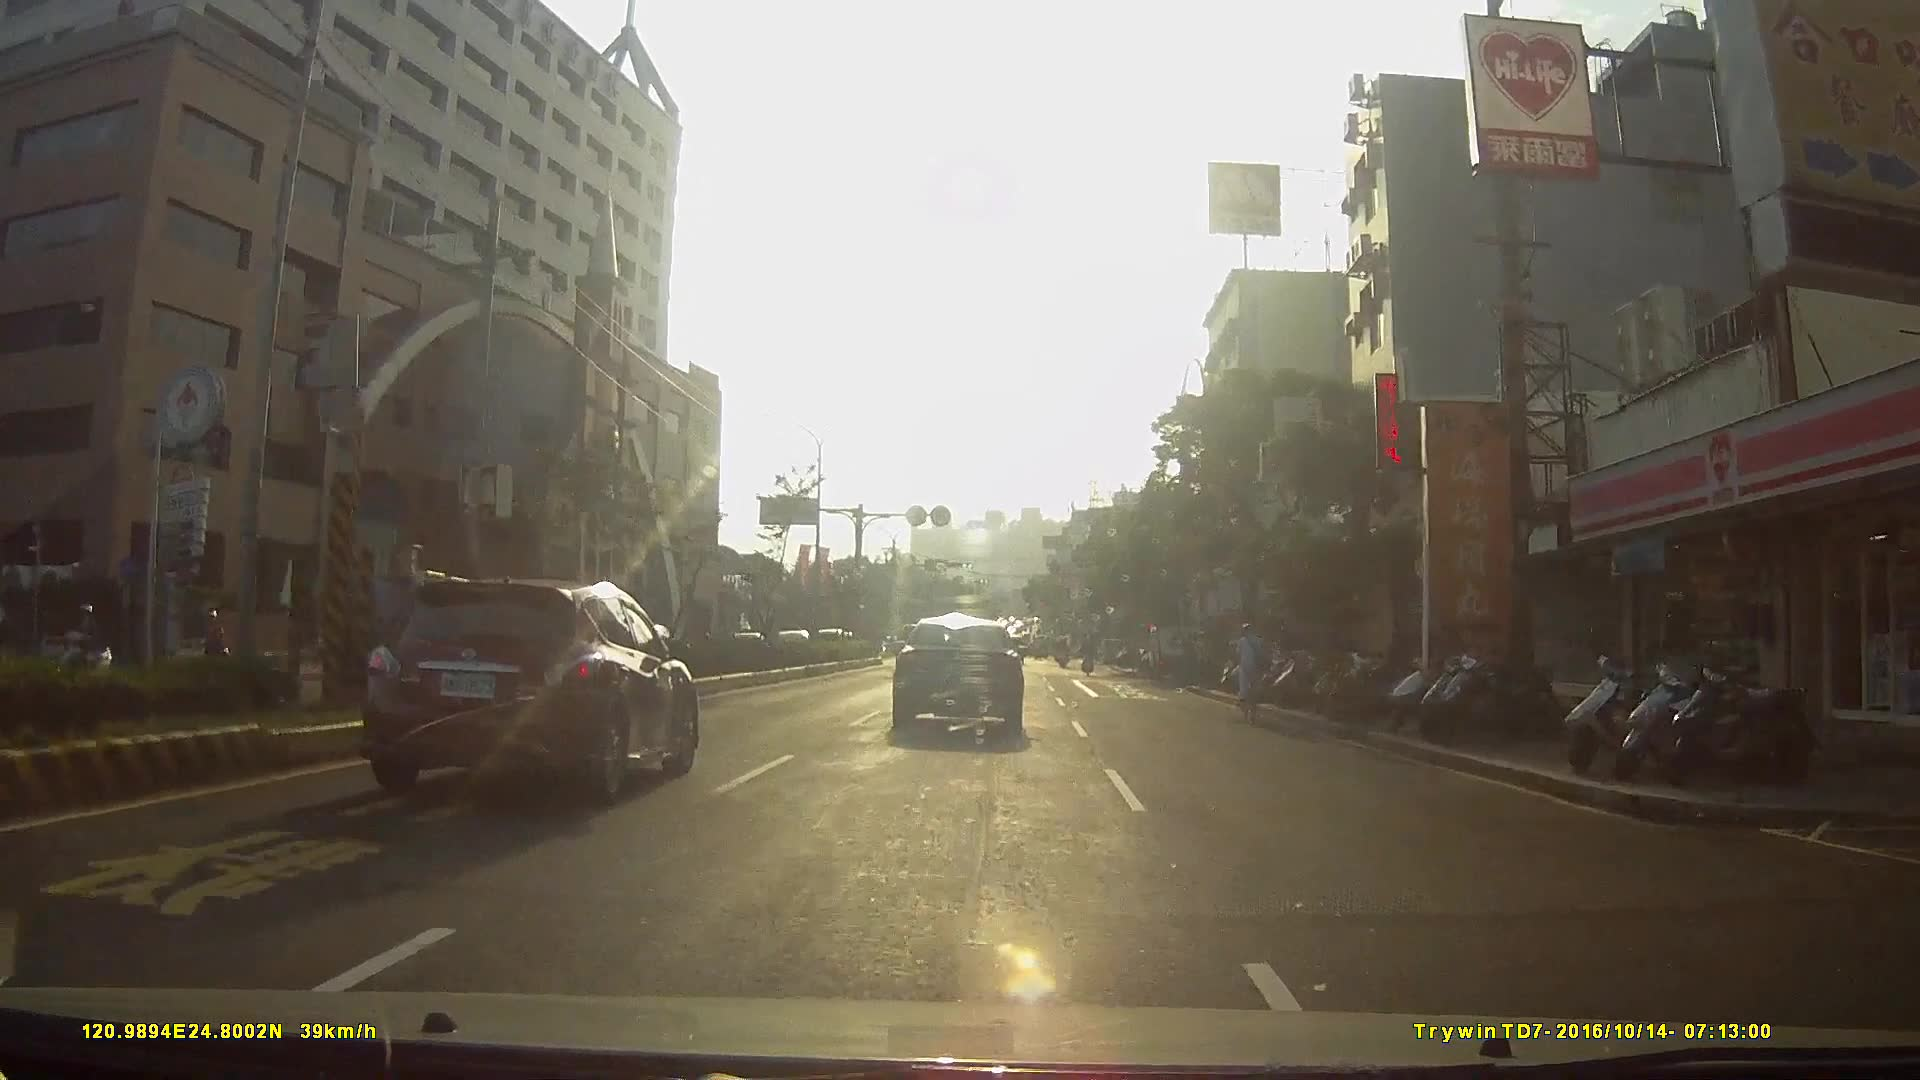rider: (33, 600, 124, 701), (183, 610, 244, 683), (1231, 622, 1272, 723)
vehicle: (361, 572, 714, 806), (888, 615, 1042, 749), (1145, 619, 1210, 682), (763, 607, 822, 662)
